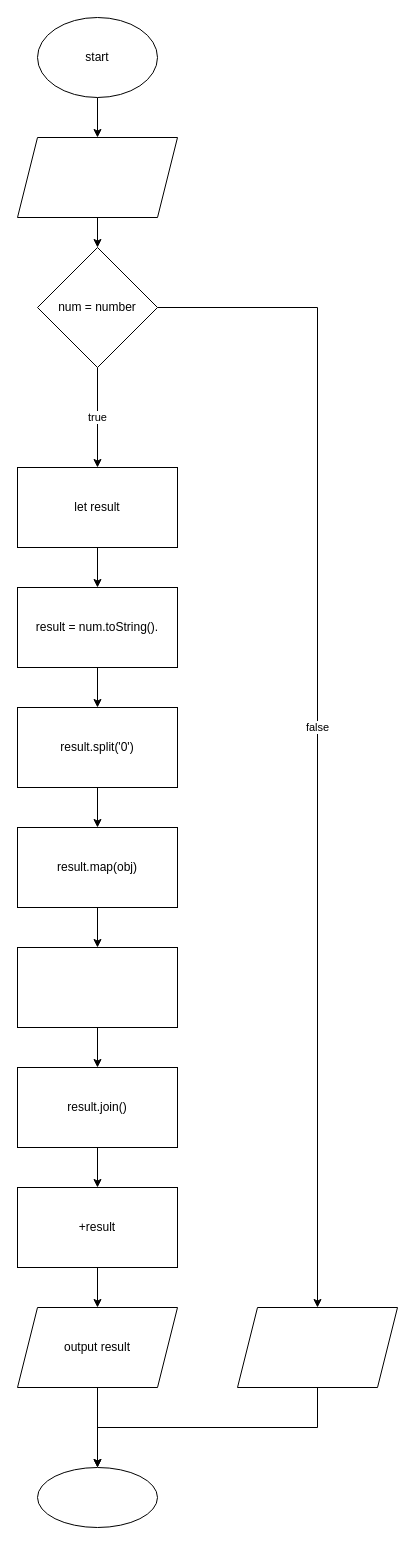
This 415x1545 diagram has some shape labels left out. The centre of each missing label's shape, as x and y in pixels:
end: point 97,1497
input num: point 97,177
obj.split('').sort().join(): point 97,987
output 'input harus number': point 317,1347
